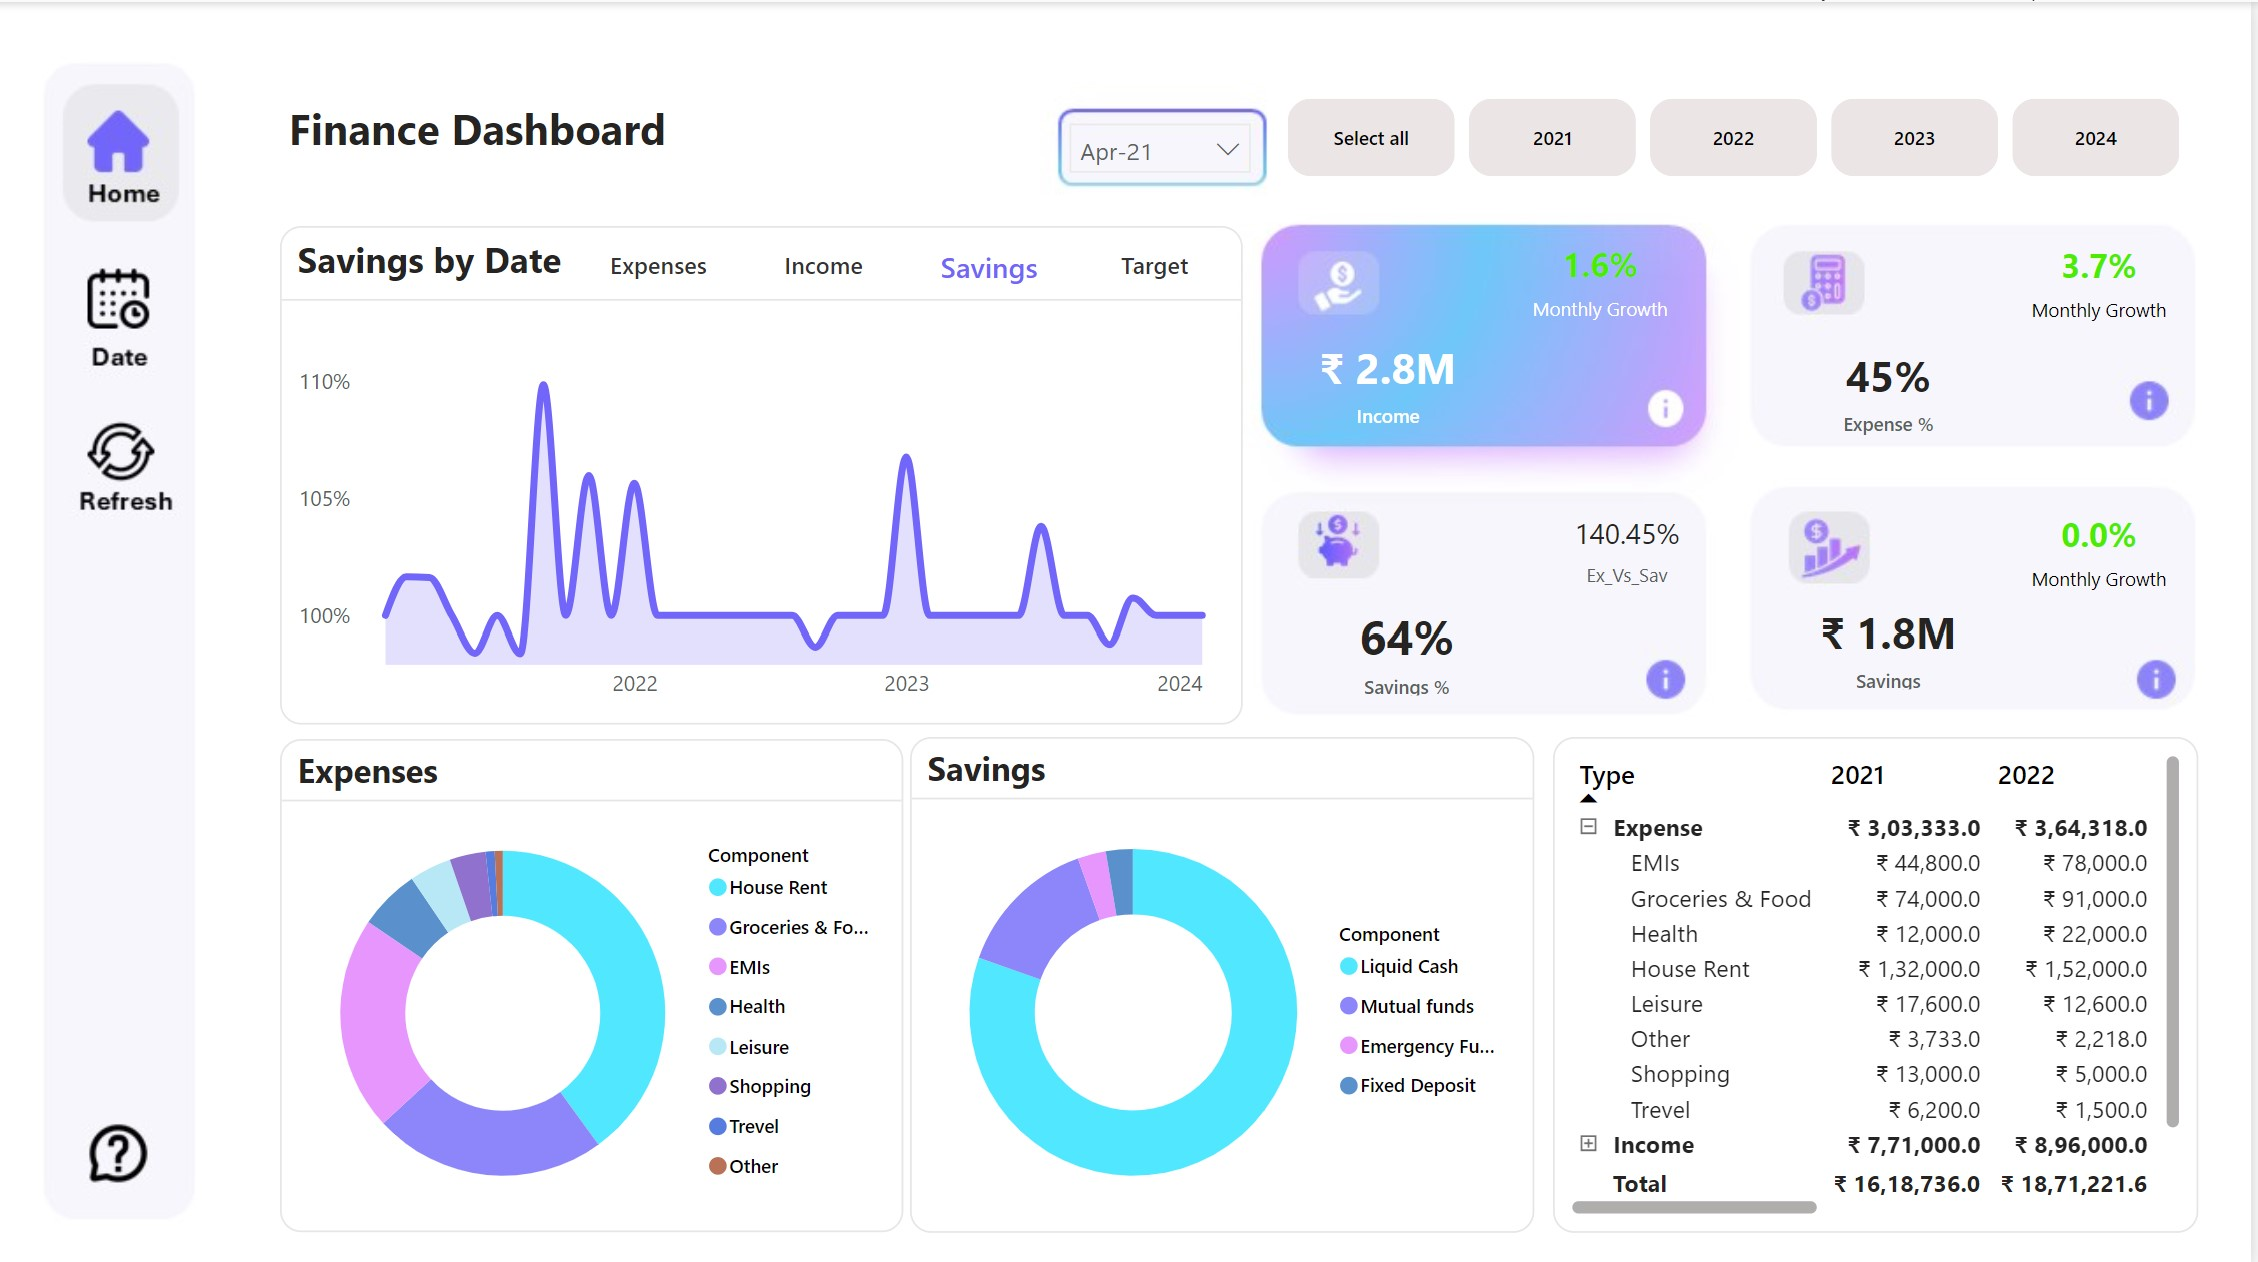

This screenshot's page, from the dashboard's own definition file:
{"tool":"powerbi","page":{"name":"Dashboard","canvas":[1280,720],"ordinal":0},"visuals":[{"type":"card","fields":{"Values":["Dataset.Savings %"]},"box":[758.6,337.8,81.6,61.2],"z":0},{"type":"card","fields":{"Values":["Dataset.Income"]},"box":[726.7,187.4,123.7,57.4],"z":1000},{"type":"card","fields":{"Values":["Dataset.Savings"]},"box":[1018.6,337.8,108.4,57.4],"z":2000},{"type":"card","fields":{"Values":["Dataset.Expense %"]},"box":[1018.6,187.4,108.4,66.3],"z":3000},{"type":"advancedSlicerVisual","fields":{"Values":["Dataset.Year"]},"box":[726.7,49.7,521.4,54.8],"z":4000},{"type":"donutChart","title":"Savings","fields":{"Category":["Dataset.Component"],"Y":["Dataset.Savings"]},"box":[517.6,416.9,354.4,281.8],"z":5000},{"type":"donutChart","title":"Expenses","fields":{"Category":["Dataset.Component"],"Y":["Dataset.Expenses"]},"box":[159.4,418.2,354.4,280.5],"z":6000},{"type":"pivotTable","fields":{"Rows":["Dataset.Type","Dataset.Component"],"Columns":["Dataset.Year"],"Values":["Dataset.Total_Value"]},"box":[882.2,416.9,367.2,281.8],"z":7000},{"type":"areaChart","fields":{"Category":["Dataset.Date"],"Y":["Dataset.Line_Chart_Measures"]},"box":[159.4,127.5,546.9,283],"z":8000},{"type":"advancedSlicerVisual","fields":{"Values":["Line_Selection_Table.Type"]},"box":[326.4,127.5,381.2,44.6],"z":9000},{"type":"textbox","box":[159.4,49.7,284.3,63.7],"z":10000},{"type":"slicer","fields":{"Values":["Selected_Date.Month-Yr"]},"box":[597.9,58.6,122.4,45.9],"z":11000},{"type":"card","fields":{"Values":["Dataset.Expenses_Monthly_Gr"]},"box":[1141,127.5,104.5,62.5],"z":12000},{"type":"card","fields":{"Values":["Dataset.Income_Monthly_Gr"]},"box":[850.4,127.5,117.3,61.2],"z":13000},{"type":"card","fields":{"Values":["Dataset.Savings_Monthly_Gr"]},"box":[1141,280.5,104.5,61.2],"z":14000},{"type":"card","fields":{"Values":["Dataset.Ex_Vs_Sav"]},"box":[882.2,284.3,84.1,53.5],"z":15000},{"type":"actionButton","box":[34.4,141,67.6,74.7],"z":16000},{"type":"actionButton","box":[35.6,233,68.5,64.4],"z":17001}]}

Visuals, with their boxes on the page's 1280x720 design canvas (x1, y1, x2, y2). These are canvas units, not pixel positions in the 2258x1262 screenshot, which may show the page scaled, cropped or inside an application window:
card - Dataset.Savings %: left=759, top=338, right=840, bottom=399
card - Dataset.Income: left=727, top=187, right=850, bottom=245
card - Dataset.Savings: left=1019, top=338, right=1127, bottom=395
card - Dataset.Expense %: left=1019, top=187, right=1127, bottom=254
advancedSlicerVisual - Dataset.Year: left=727, top=50, right=1248, bottom=104
"Savings" donutChart: left=518, top=417, right=872, bottom=699
"Expenses" donutChart: left=159, top=418, right=514, bottom=699
pivotTable - Dataset.Type x Dataset.Component: left=882, top=417, right=1249, bottom=699
areaChart - Dataset.Date x Dataset.Line_Chart_Measures: left=159, top=128, right=706, bottom=410
advancedSlicerVisual - Line_Selection_Table.Type: left=326, top=128, right=708, bottom=172
textbox: left=159, top=50, right=444, bottom=113
slicer - Selected_Date.Month-Yr: left=598, top=59, right=720, bottom=104
card - Dataset.Expenses_Monthly_Gr: left=1141, top=128, right=1246, bottom=190
card - Dataset.Income_Monthly_Gr: left=850, top=128, right=968, bottom=189
card - Dataset.Savings_Monthly_Gr: left=1141, top=280, right=1246, bottom=342
card - Dataset.Ex_Vs_Sav: left=882, top=284, right=966, bottom=338
actionButton: left=34, top=141, right=102, bottom=216
actionButton: left=36, top=233, right=104, bottom=297
